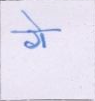e_matra: (20, 9, 41, 29)
